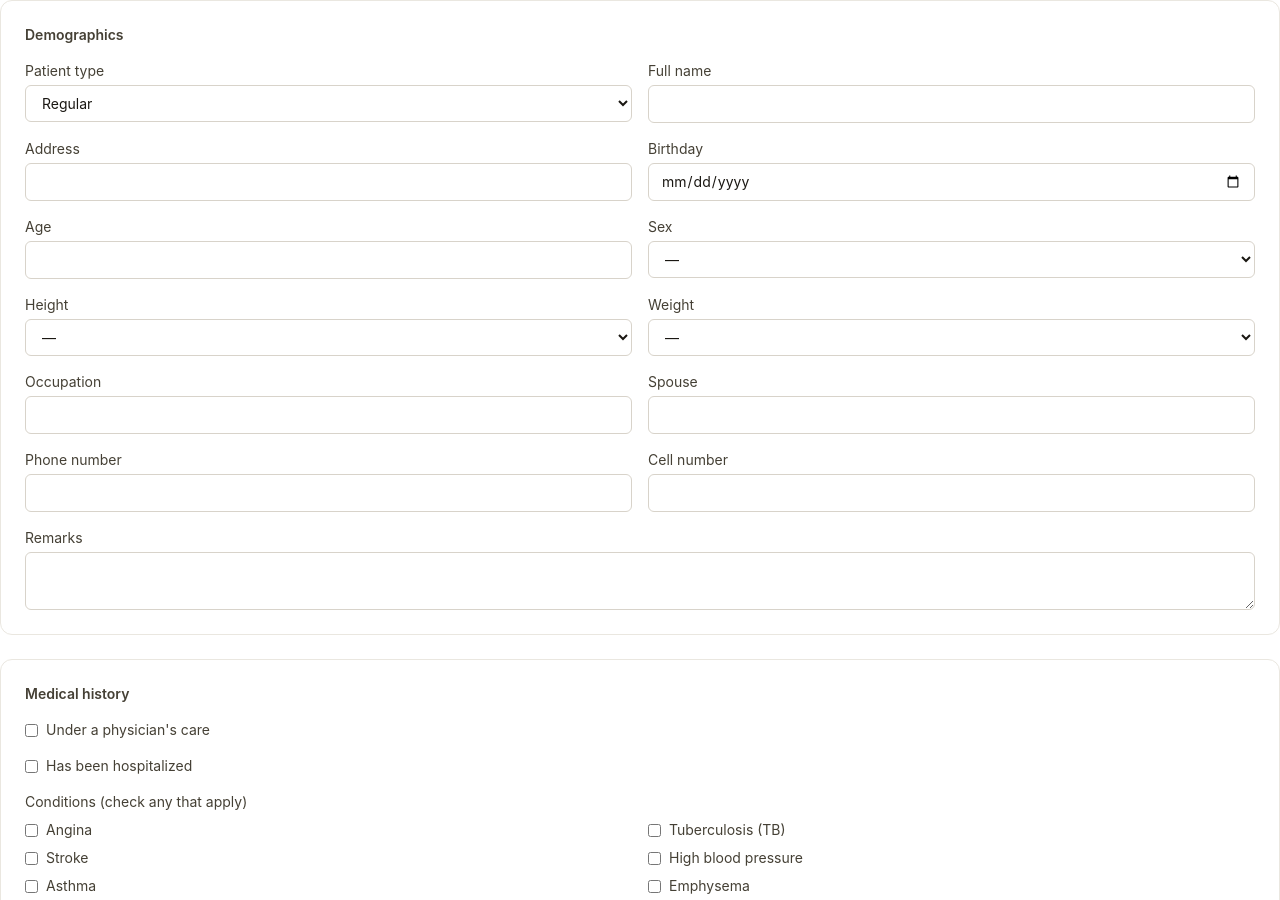
Scenario: PatientForm › reveals the follow-up for "Has been hospitalized"
The image size is (1280, 900).
Click the checkbox labelled "Has been hospitalized" at [32, 766], box [25,760,38,772]
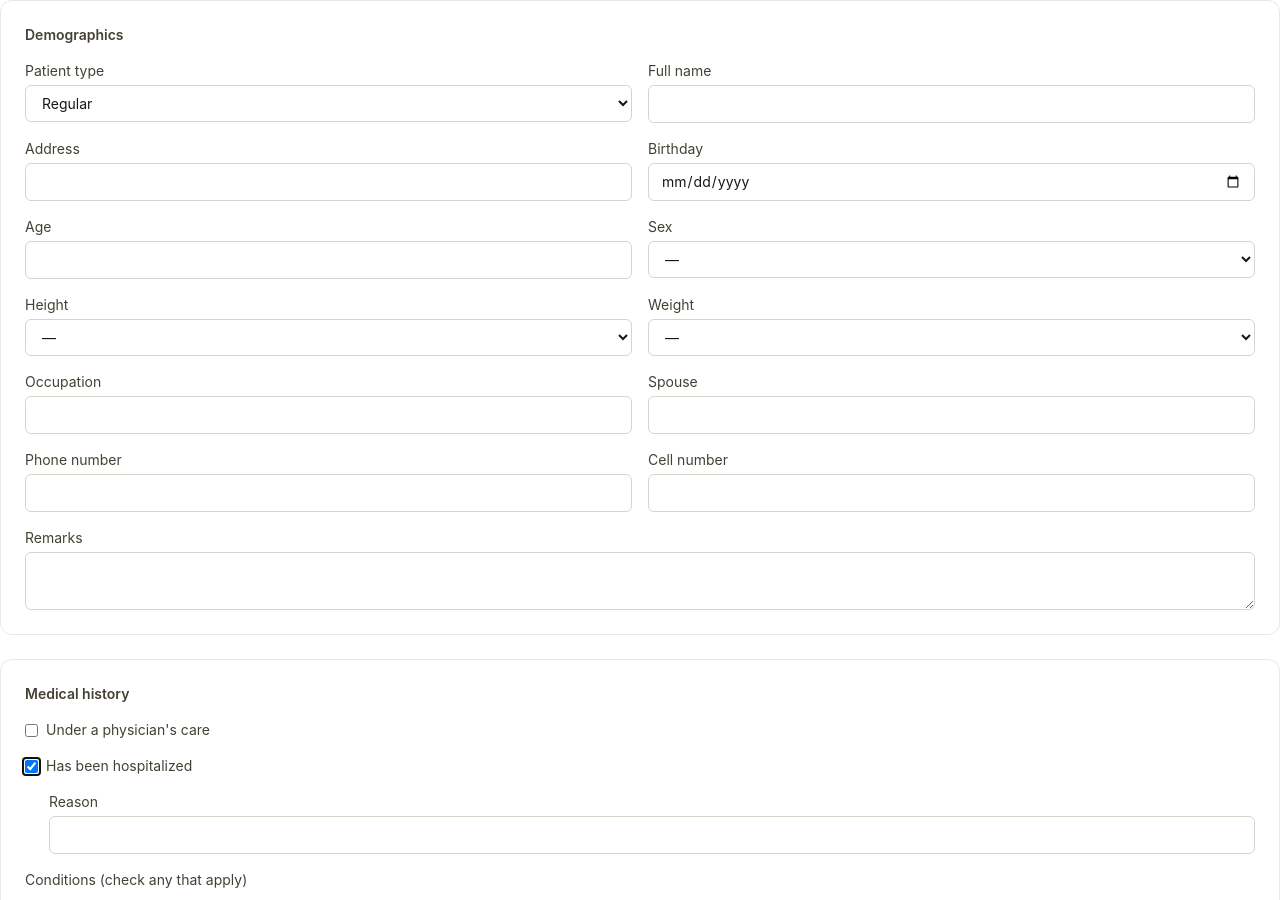
Expected: the field labelled "Reason" is shown, [49,816,1255,854]
